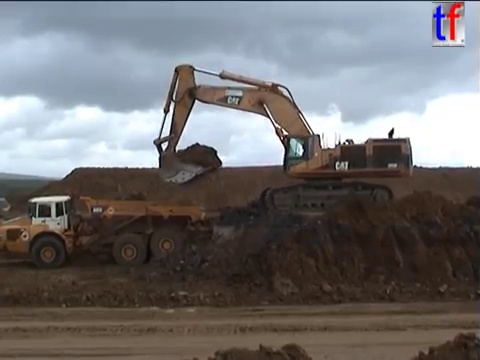excavator: (151, 62, 415, 218)
truck: (1, 193, 222, 270)
